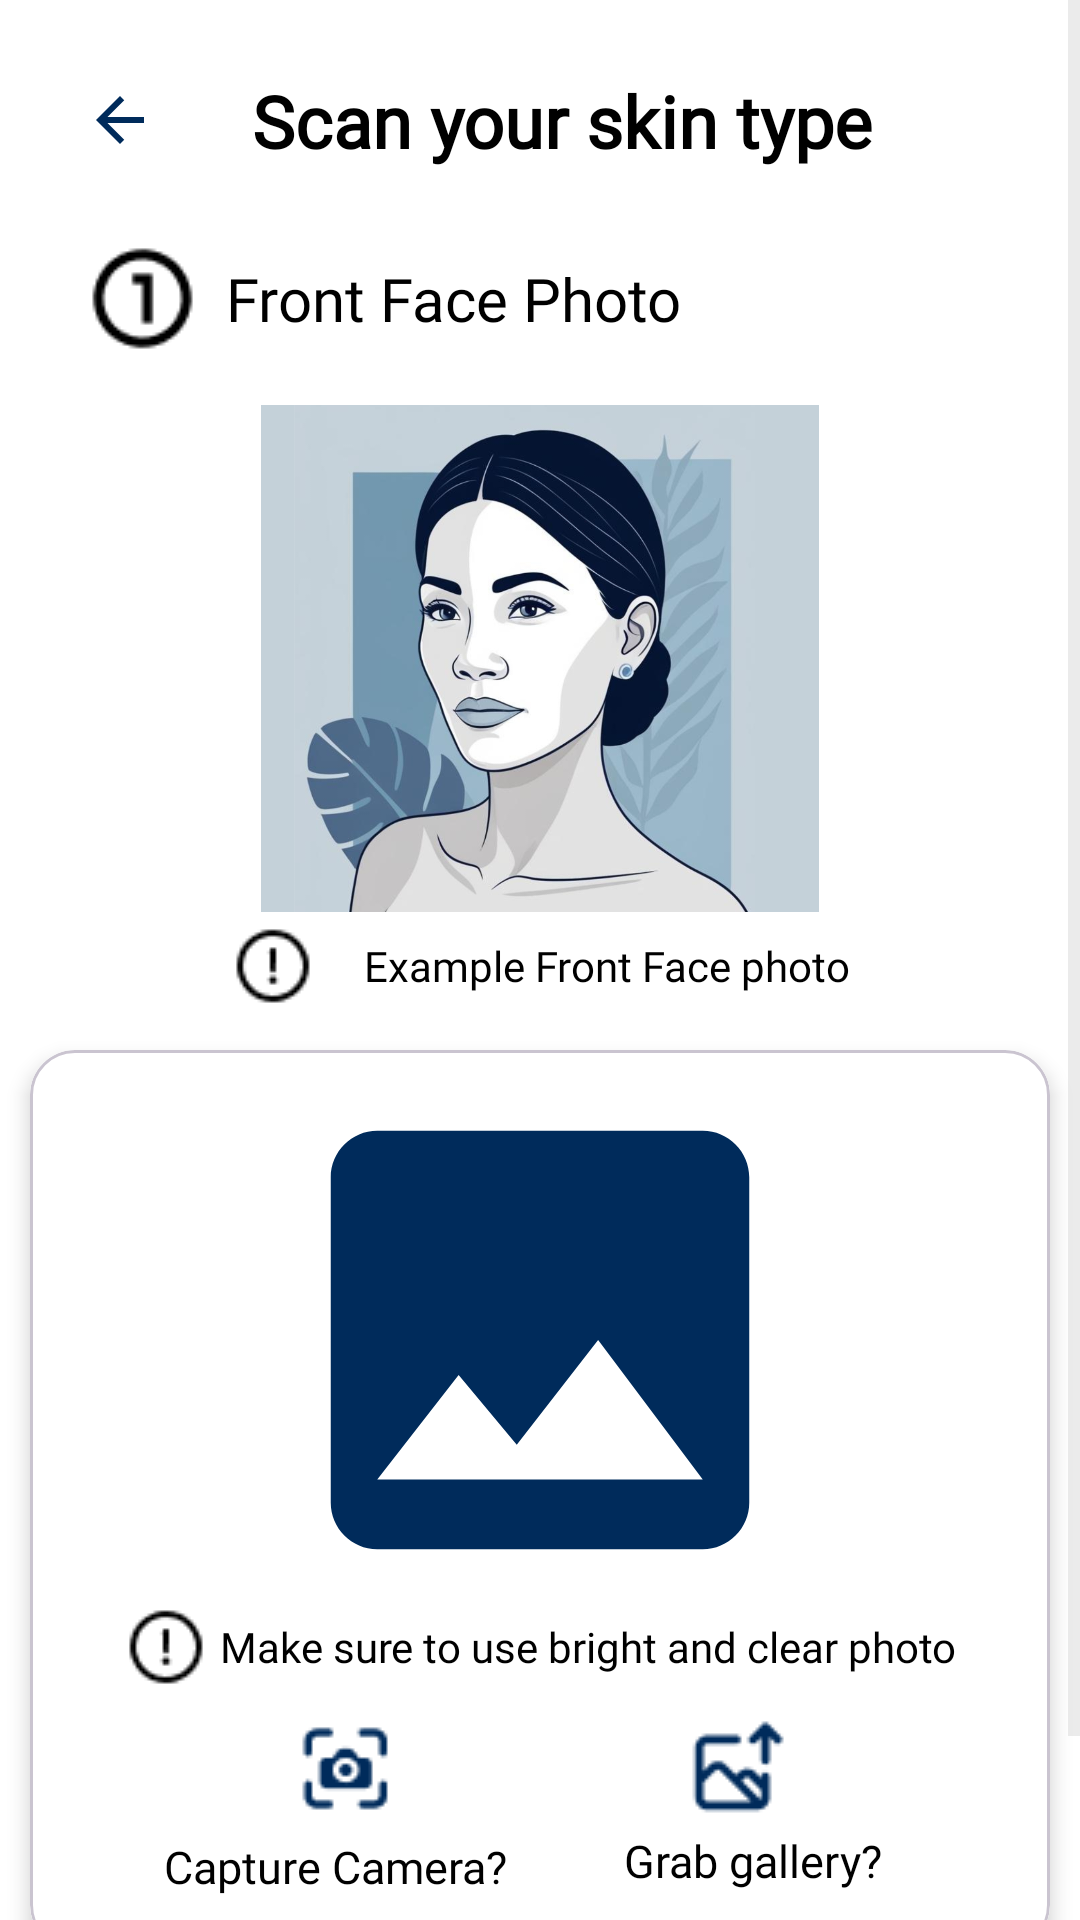

Named icons in this screenshot (1080 × 1920) and their bounding boxes, detection(x1, y1, x2, y2):
arrow back: detection(96, 96, 144, 144)
